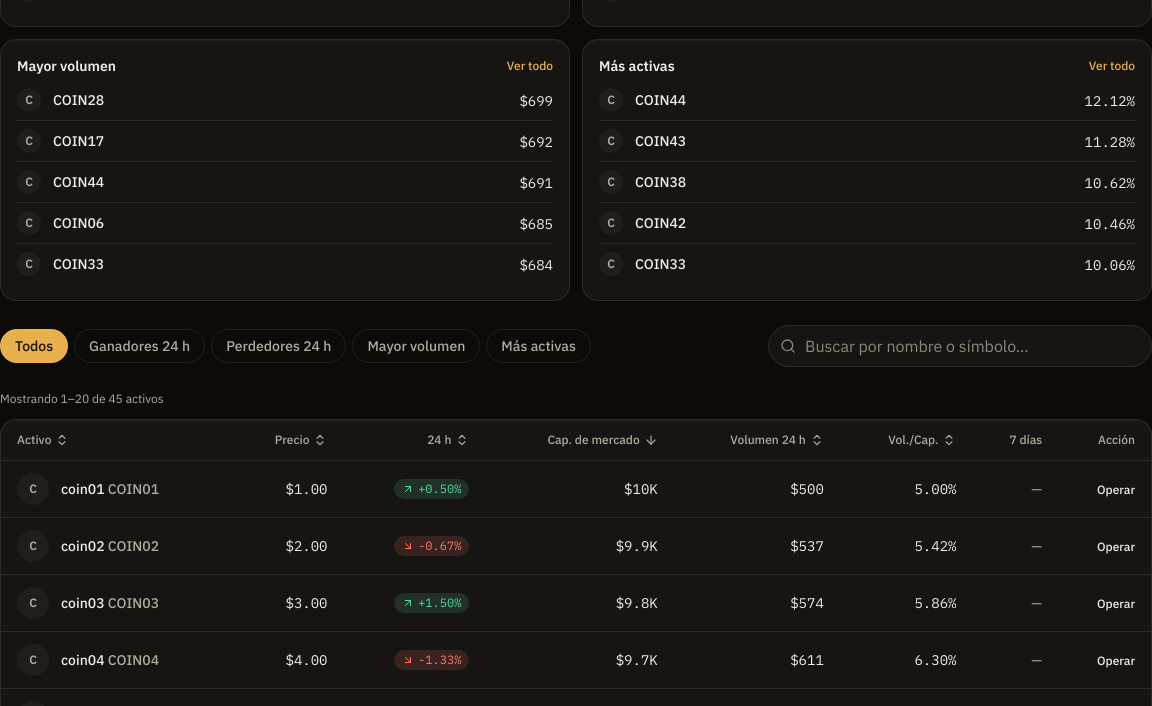
Test: MarketExplorer: search › explains the search when there are no matches
This screenshot has width=1152, height=706.
(page scrolled)
In the search field labelled "Buscar por nombre o símbolo": {"x": 960, "y": 346} [768,325,1151,367], type "zzz"
(page scrolled)
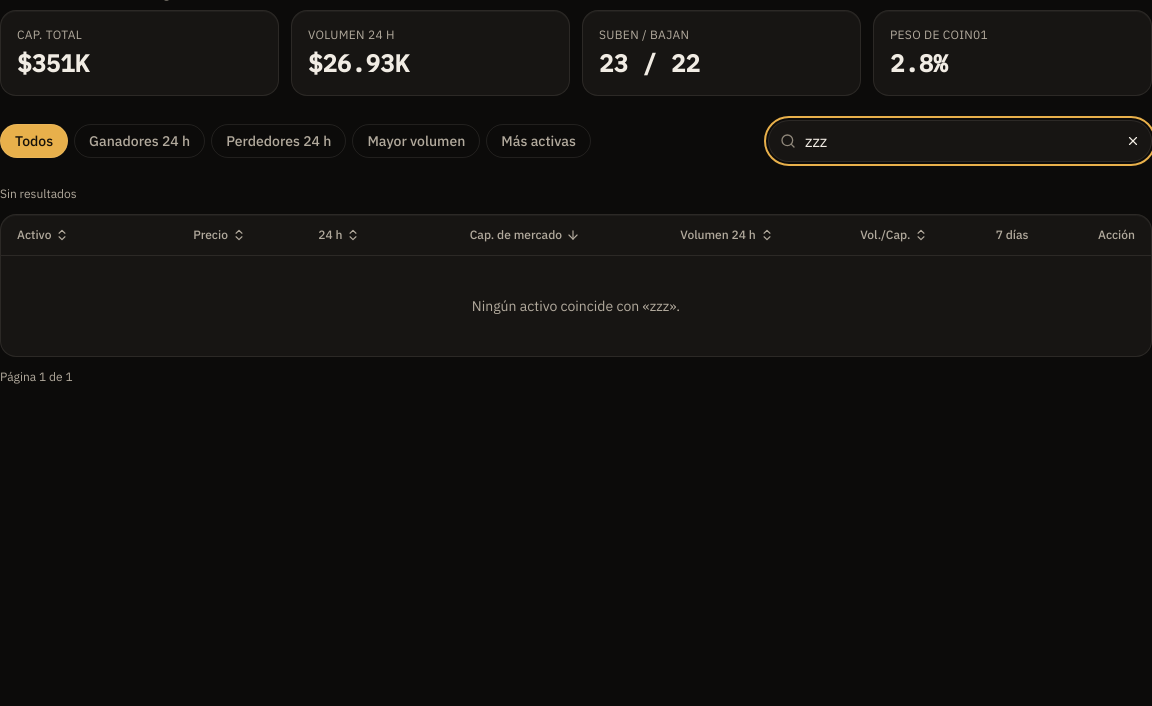
Result: the text "Ningún activo coincide con «zzz»." is shown at [1,256,1151,356]
Result: the message reads "Sin resultados" at [0,186,77,201]
